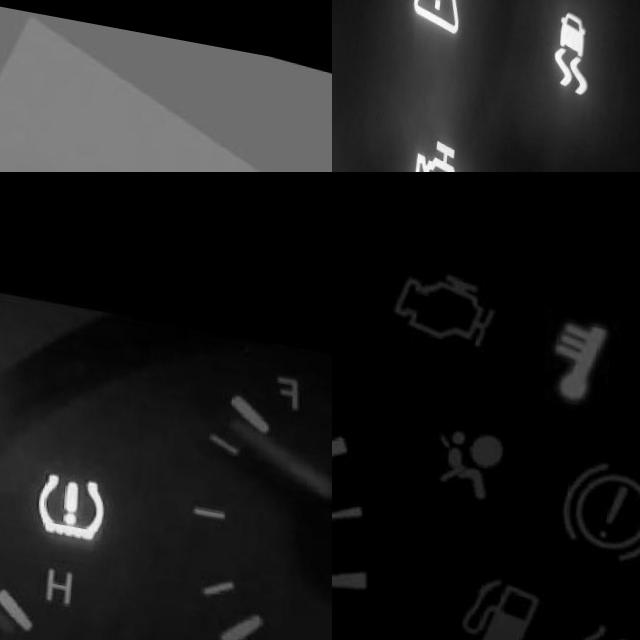High Engine Coolant Temperature: (538, 279, 626, 399)
